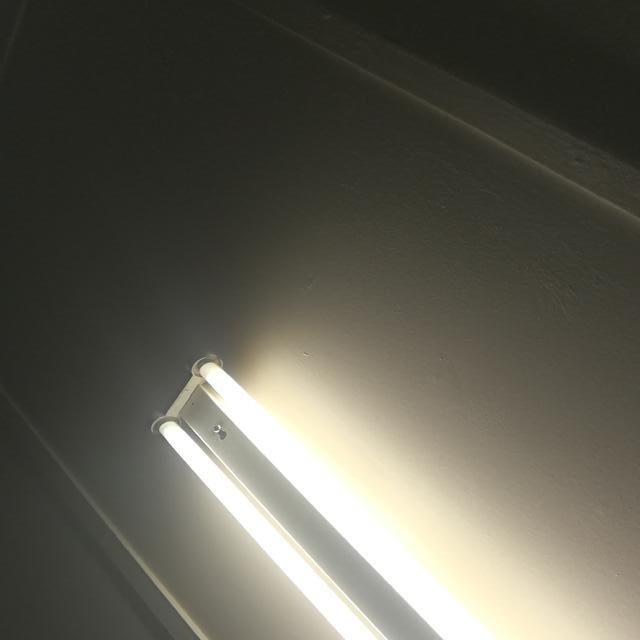fluorescent tube: (184, 343, 640, 640), (139, 421, 640, 640)
